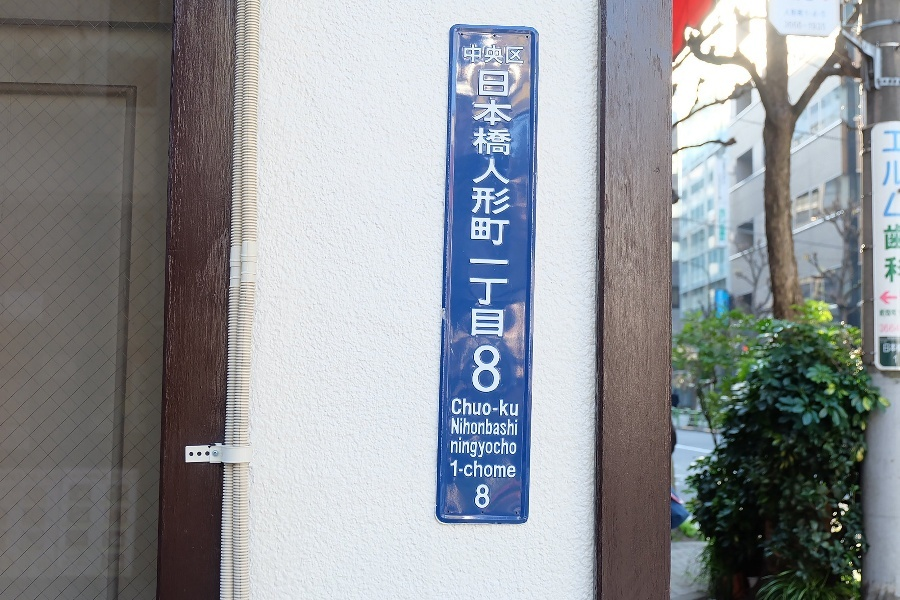text: (481, 68, 496, 395), (497, 68, 512, 395), (881, 130, 896, 284), (476, 68, 480, 395), (513, 68, 515, 395), (897, 130, 900, 284), (465, 43, 480, 65), (481, 43, 496, 65), (497, 43, 512, 65), (465, 397, 480, 418), (481, 397, 496, 418), (497, 397, 512, 418), (465, 438, 480, 459), (481, 438, 496, 459), (497, 438, 512, 459), (465, 417, 480, 436), (481, 417, 496, 436), (497, 417, 512, 436), (465, 460, 480, 479), (481, 460, 496, 479), (497, 460, 512, 479), (451, 397, 464, 418), (452, 438, 464, 459), (481, 484, 491, 509), (451, 417, 464, 436), (451, 460, 464, 479), (513, 43, 524, 65), (881, 323, 896, 333), (883, 343, 896, 353), (881, 309, 897, 317), (513, 397, 519, 418), (476, 484, 480, 509), (513, 417, 518, 436), (513, 438, 517, 459), (513, 460, 516, 479), (897, 323, 900, 333), (897, 343, 900, 353), (893, 354, 896, 364), (879, 323, 880, 333), (897, 354, 898, 364)
